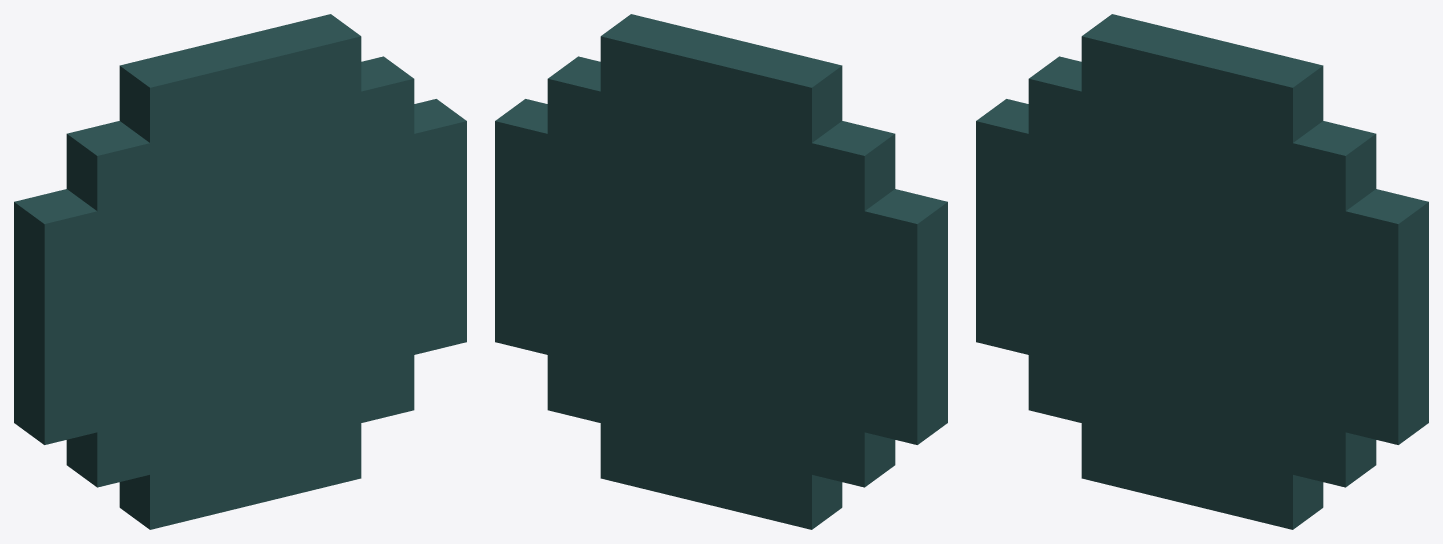
Rendered from Coin_Small_1.glb.
3 renders of one model, left to right at view 1: azimuth 30°, elevation 25°; view 2: azimuth 150°, elevation 25°; view 3: azimuth 330°, elevation 25°, orthographic.
Visible parts, largest first — view 1: Coin_Small_1; view 2: Coin_Small_1; view 3: Coin_Small_1.
Part boxes in pixels (x1,y1,x2,y2): Coin_Small_1: [14, 14, 466, 529]; Coin_Small_1: [495, 14, 947, 529]; Coin_Small_1: [976, 14, 1428, 529].
Size of the model in its own units: 0.2 by 0.2 by 0.025.
